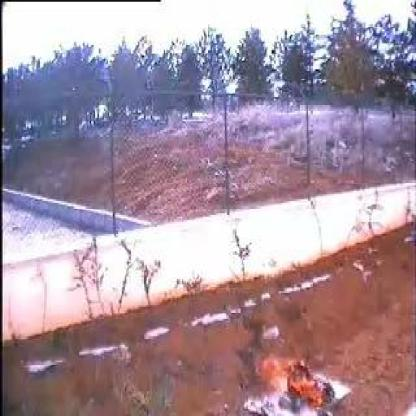-: (240, 325, 266, 396)
foggia-v2-map80-epoch100 - v1 4323: (272, 352, 323, 405)
